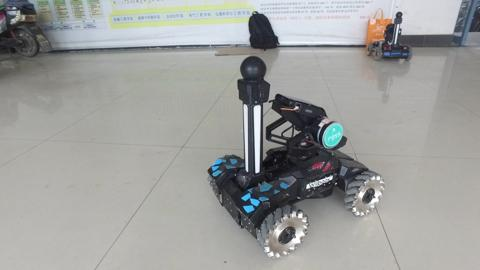bag: (246, 9, 280, 52), (365, 6, 394, 48)
chariot: (205, 54, 386, 259), (365, 10, 413, 64)
